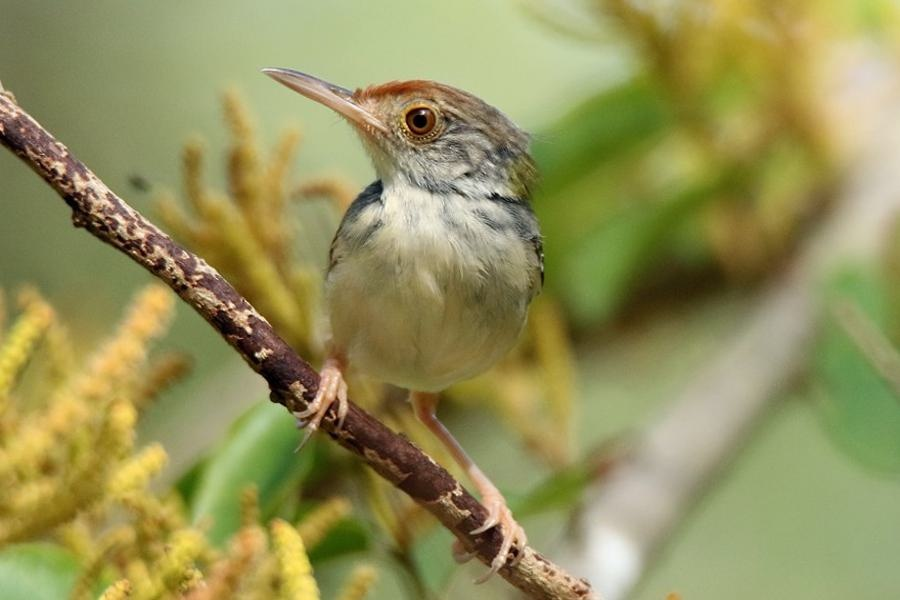tailorbird: (227, 50, 581, 516)
